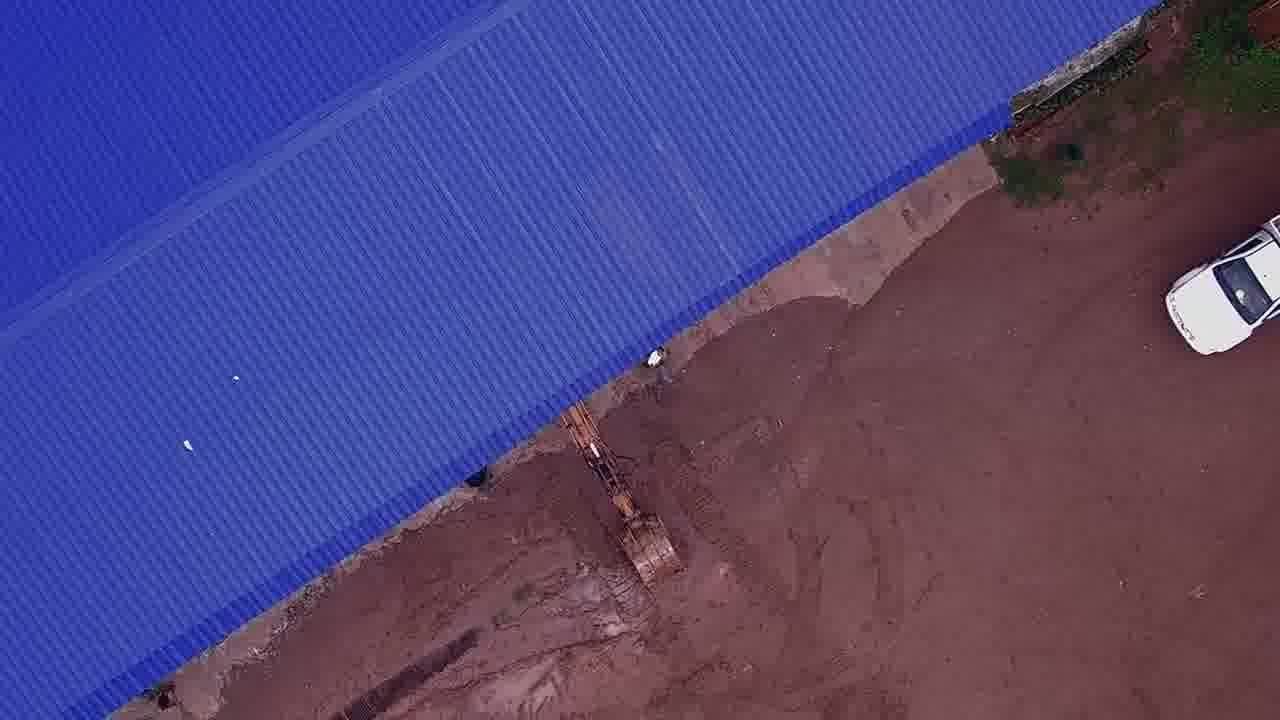LMV: (1163, 196, 1280, 357)
